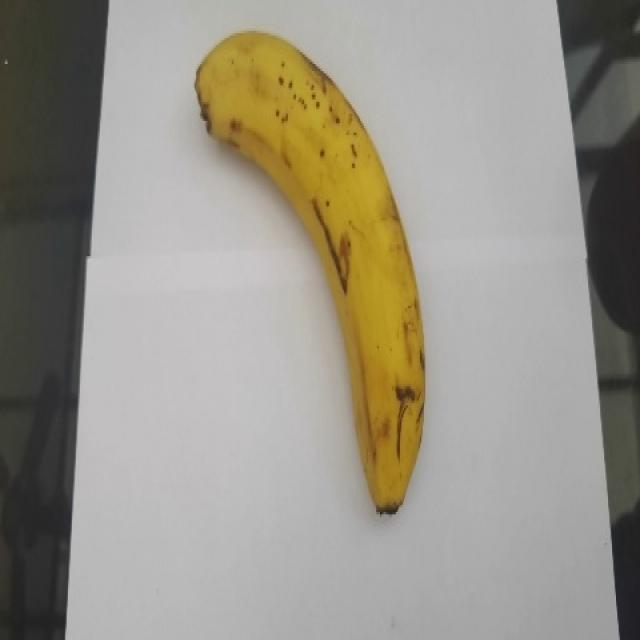Banana: (193, 29, 426, 516)
